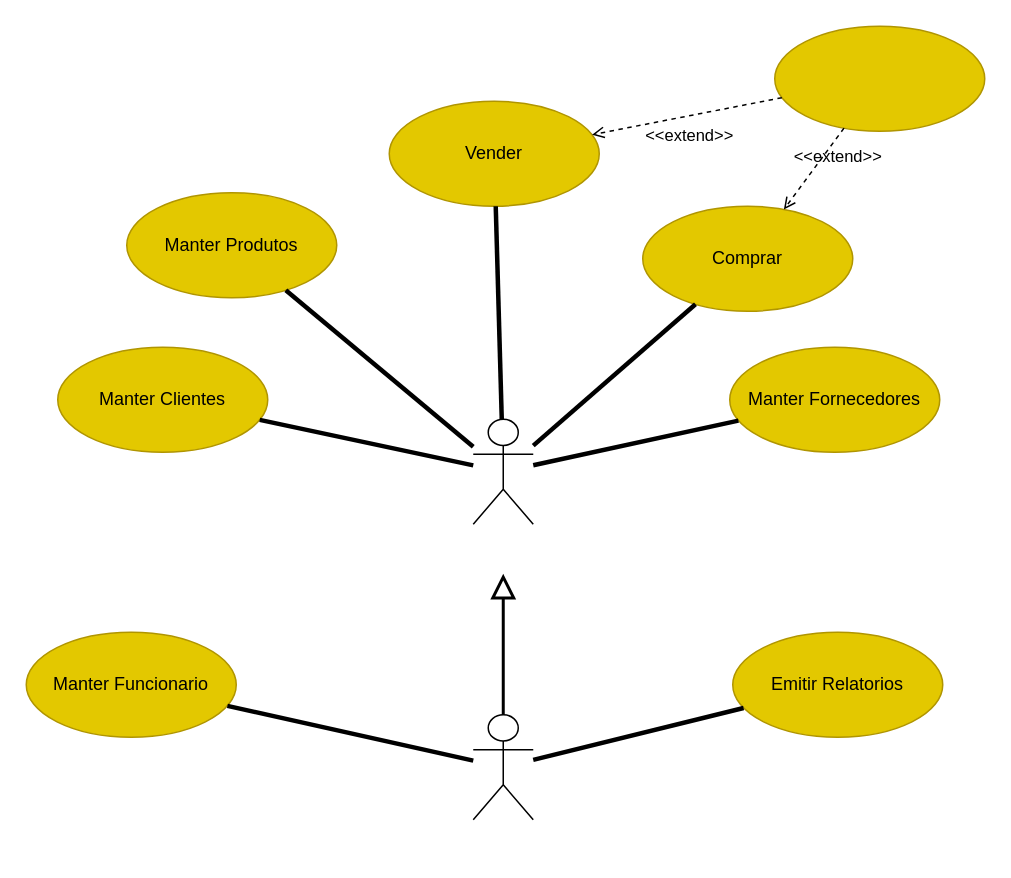
The diagram is 1011 pixels wide and 878 high, and some of its shapes have lost their labels. Each missing label, with the centre of its shape:
Consultar_Nfe: (x=879, y=78)
Funcionario: (x=502, y=471)
Gerente: (x=502, y=766)
